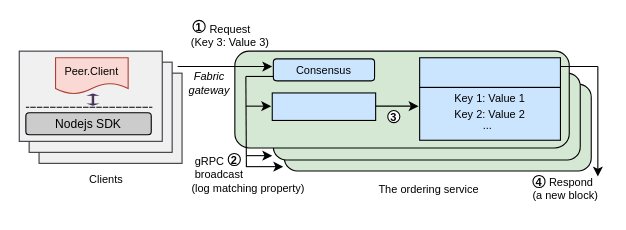
This 626x230 diagram has some shape labels left out. Here are the shapes that lost their labels. From the top down, the box of each, then its label:
(419, 57, 560, 87): Replicated State Machine
(271, 92, 376, 120): Replicated WAL
